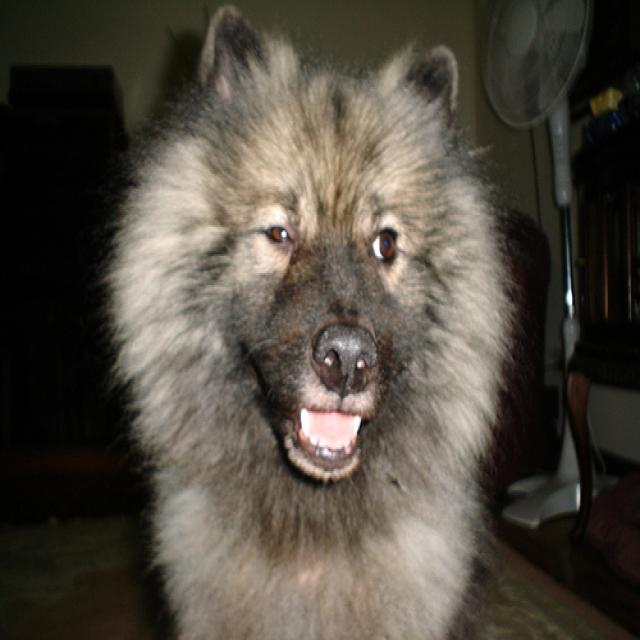dog-keeshond: (105, 2, 515, 637)
